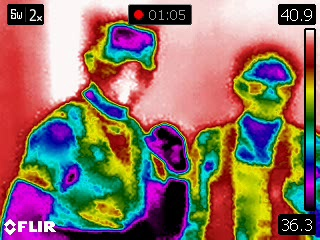human: (2, 13, 191, 240), (188, 44, 320, 240)
